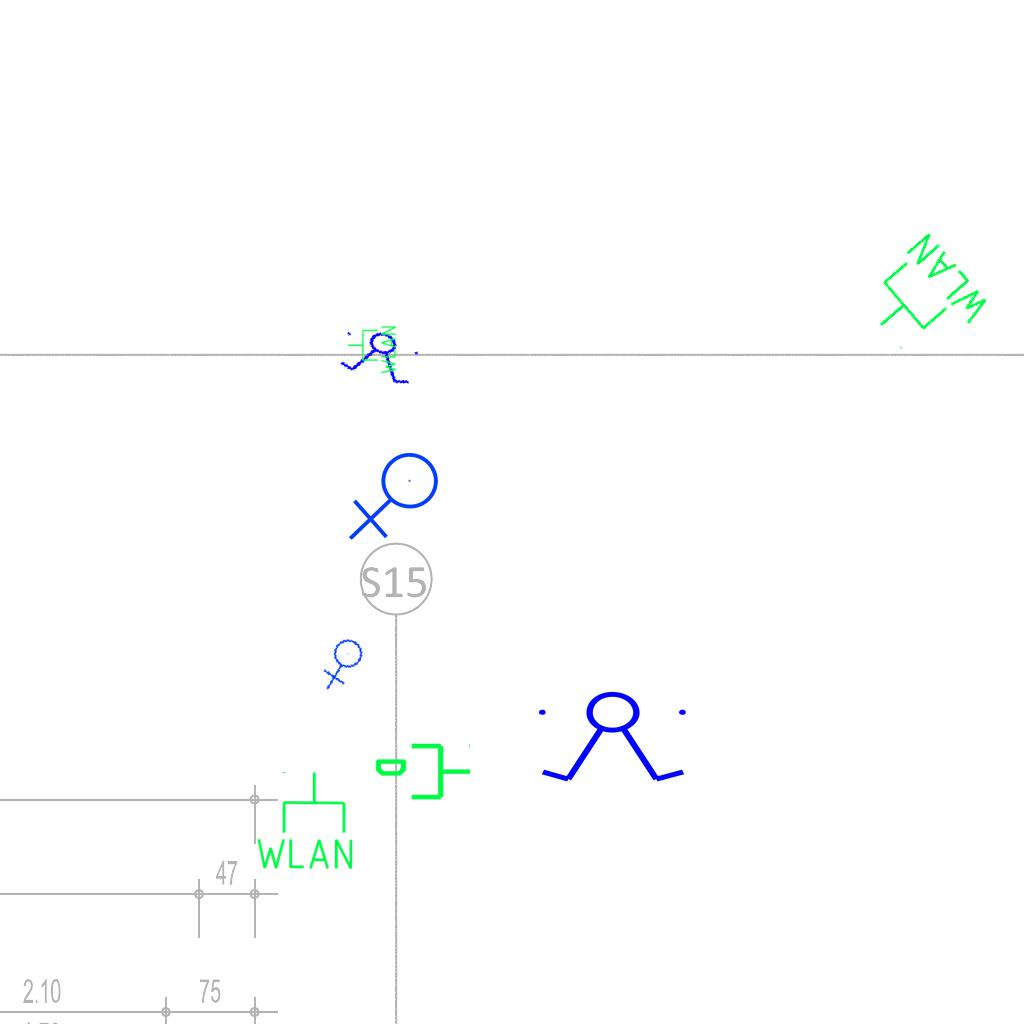Datenanschluss_einfach: (373, 739, 473, 808)
Elektroanschluss_allgemein_230V_Geraeteanschlussdose_230V: (348, 451, 447, 545), (314, 634, 375, 693)
Serienschalter: (530, 690, 698, 786), (333, 321, 427, 391)
WLAN: (850, 226, 998, 375), (252, 769, 357, 873), (346, 324, 398, 376)
